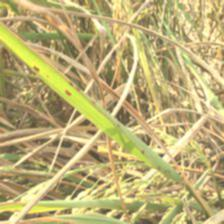0 BrownSpot: (28, 60, 43, 75), (61, 85, 76, 98), (137, 147, 150, 156)
